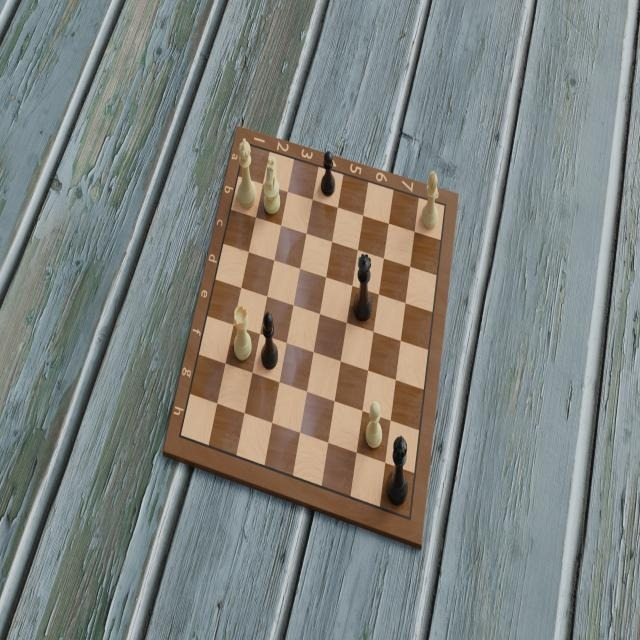black-bishop: (259, 310, 279, 371)
black-king: (385, 433, 410, 508)
black-pawn: (319, 148, 336, 198)
black-queen: (353, 250, 374, 326)
white-bishop: (420, 168, 440, 233)
white-king: (234, 136, 258, 212)
white-knight: (262, 152, 282, 219)
white-pawn: (363, 398, 384, 453)
white-rook: (232, 302, 253, 366)
